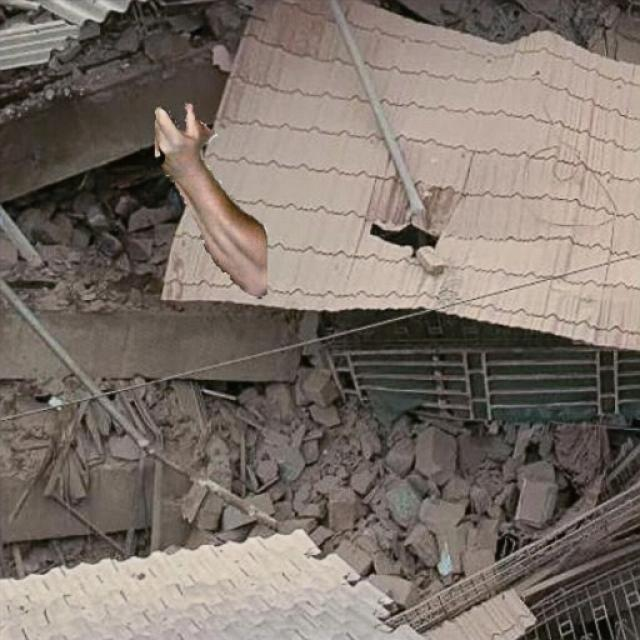Person in Rubble: (155, 102, 266, 298)
